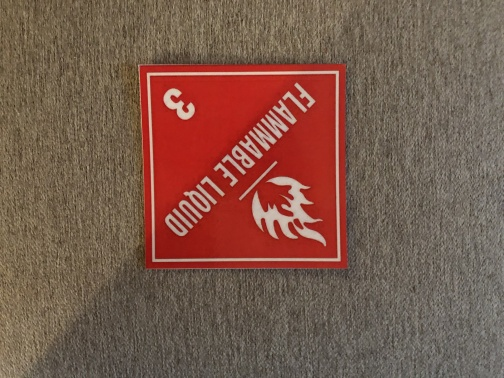FlammableLiquid: (140, 65, 344, 269)
